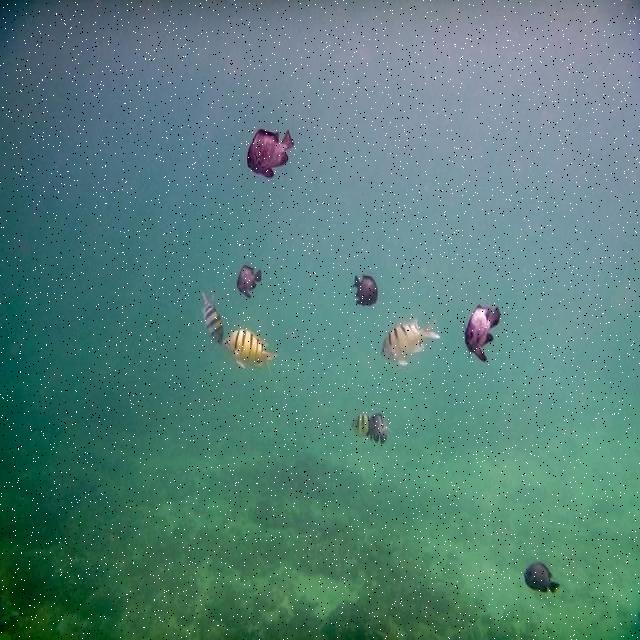fish: (382, 319, 442, 366), (226, 331, 280, 374), (249, 127, 294, 178), (463, 303, 499, 363), (202, 290, 224, 344), (524, 565, 560, 595), (350, 274, 379, 306), (239, 267, 261, 299), (370, 414, 387, 442), (352, 415, 369, 434)
